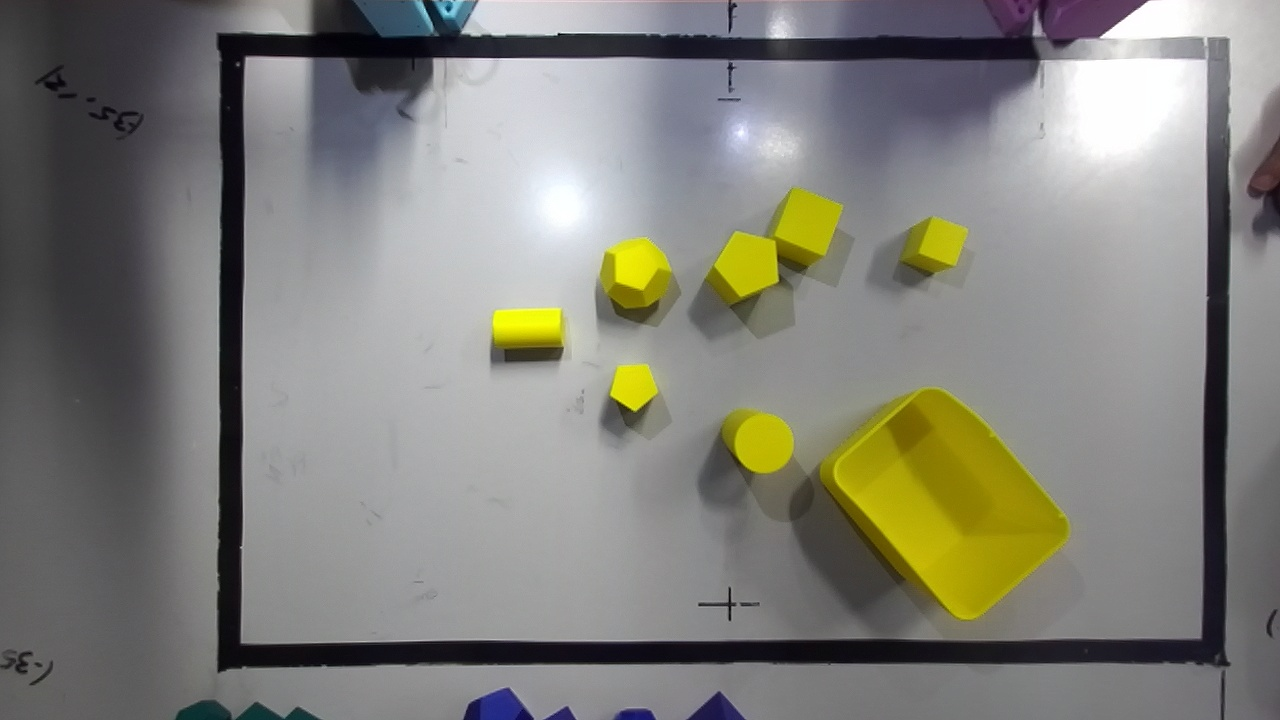bin: (820, 388, 1068, 618)
cube: (768, 187, 842, 266), (900, 217, 967, 272)
cylinder: (721, 409, 793, 473), (492, 307, 563, 349)
dodecahedron: (599, 237, 670, 308)
hexagonal: (705, 231, 778, 303), (609, 364, 658, 411)
